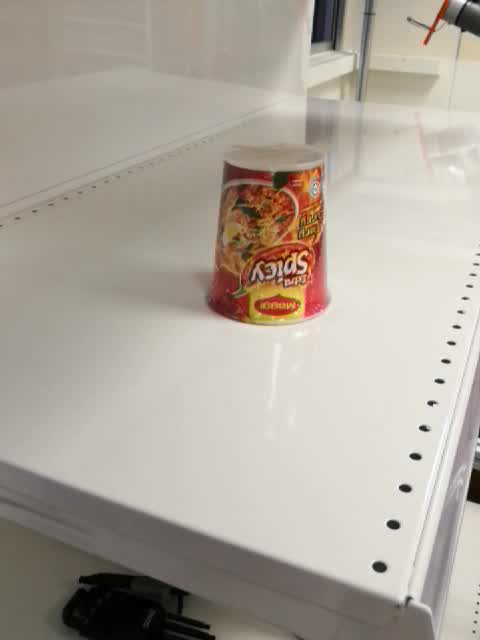maggi: (202, 141, 336, 328)
